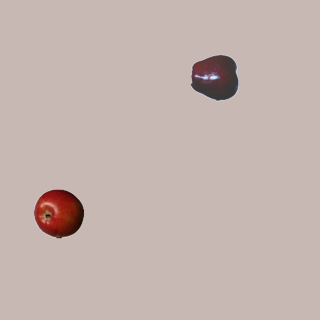Apple Braeburn: (33, 188, 83, 238)
Apple Red Delicious: (190, 52, 240, 102)
